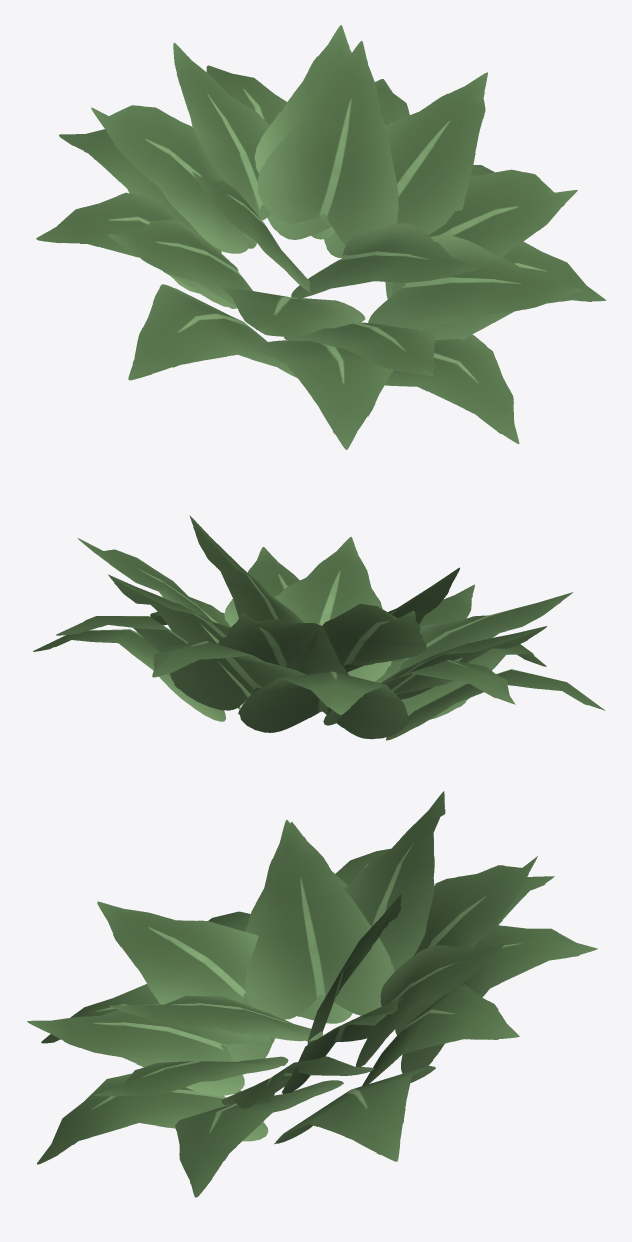
The model's file is q_plant.fbx.
3 views of the same model, one above another, from view 1: azimuth 30°, elevation 25°; view 2: azimuth 150°, elevation 25°; view 3: azimuth 270°, elevation 25° (orthographic). The views are drawn at different scales.
Visible parts, largest first — view 1: q_plant; view 2: q_plant; view 3: q_plant.
Boxes of the visible parts, bbox=[...] form: q_plant: bbox=[36, 25, 606, 449]; q_plant: bbox=[33, 515, 605, 740]; q_plant: bbox=[27, 791, 597, 1197].
Size of the model in its own units: 1.81 by 1 by 1.75.
1 material, 1 textured.
